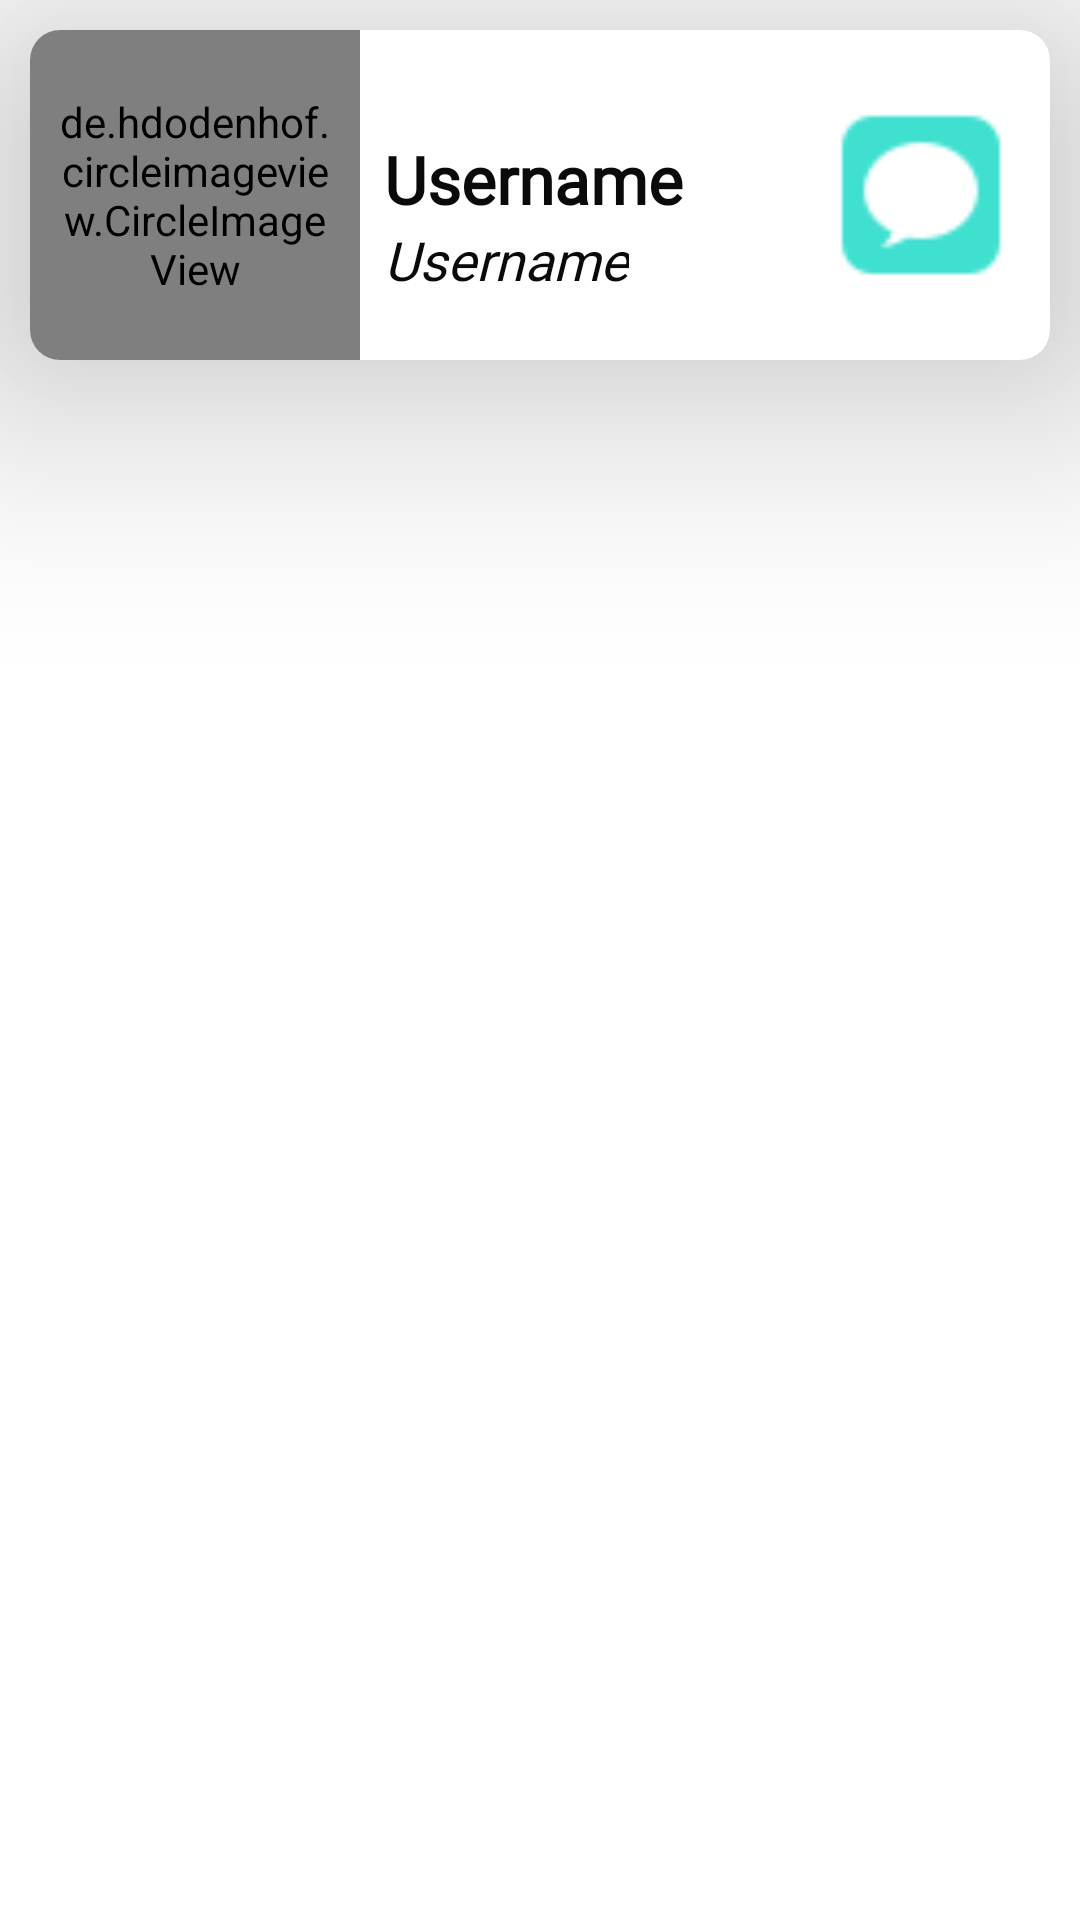

Point at icon controls on the screen. Image size 1080px x 1920px, points as (x=x, y=y).
message: (x=921, y=195)
